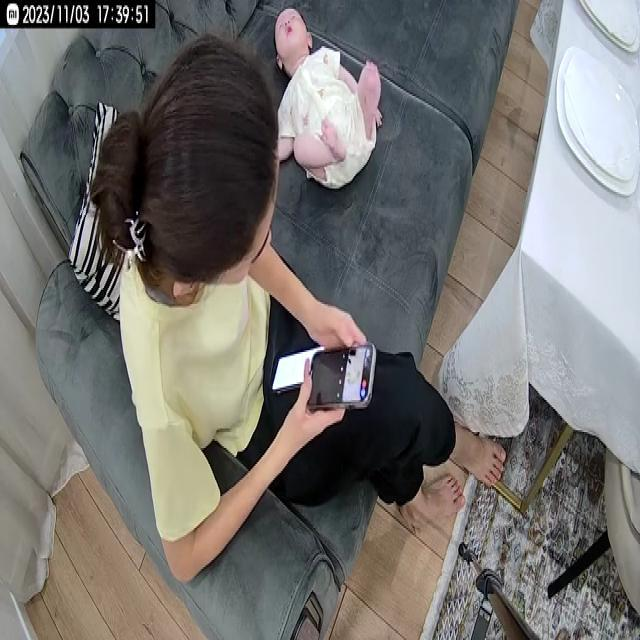baby: (258, 4, 386, 208)
